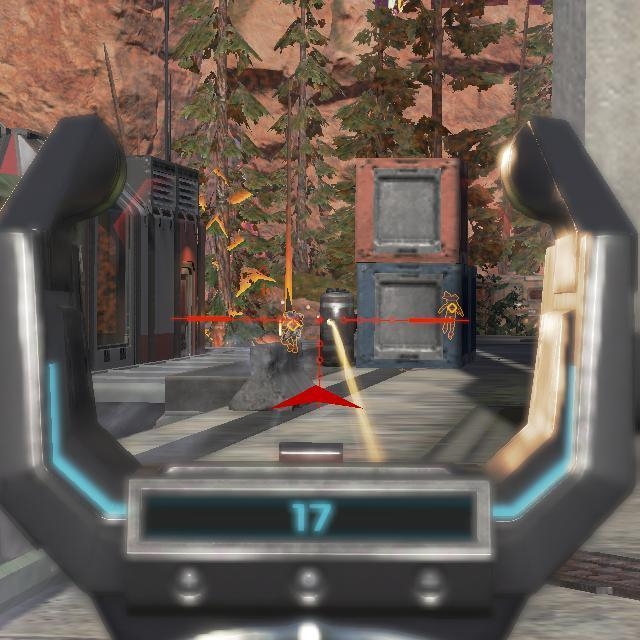avatar: (436, 291, 465, 341), (279, 308, 304, 356)
object: (285, 315, 302, 333), (445, 300, 460, 316)
